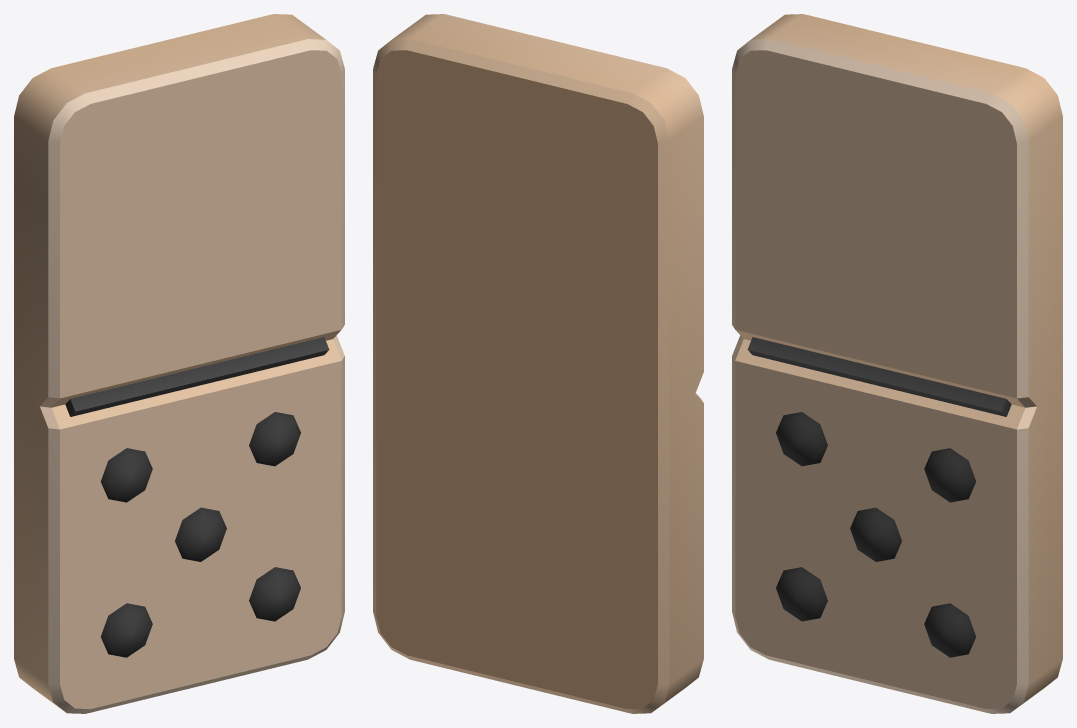
Rendered from KFB_Domino_0-5.r1.glb.
The picture shows the model from 3 angles, left to right: view 1: azimuth 30°, elevation 25°; view 2: azimuth 150°, elevation 25°; view 3: azimuth 330°, elevation 25°; orthographic projection.
Visible parts, largest first — view 1: KFB_Domino_0-5; view 2: KFB_Domino_0-5; view 3: KFB_Domino_0-5.
Part boxes in pixels (box(x1,y1,x2,y2)): KFB_Domino_0-5: box(14, 14, 344, 713); KFB_Domino_0-5: box(373, 14, 703, 713); KFB_Domino_0-5: box(732, 14, 1062, 713).
Size of the model in its own units: 2.44 by 4.87 by 0.6739.
1 material, 1 textured.
